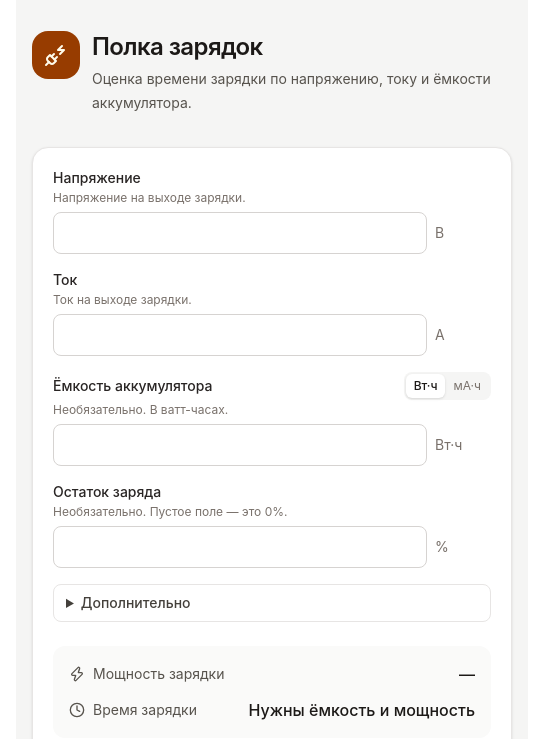
Test: home calculator › treats a blank efficiency as 85% and does not estimate an out-of-range value
Type "5" into the number field labelled "Напряжение".
click(240, 233); type("5")  # box 53,212 -> 427,254
Type "2" into the number field labelled "Ток".
click(240, 335); type("2")  # box 53,314 -> 427,356
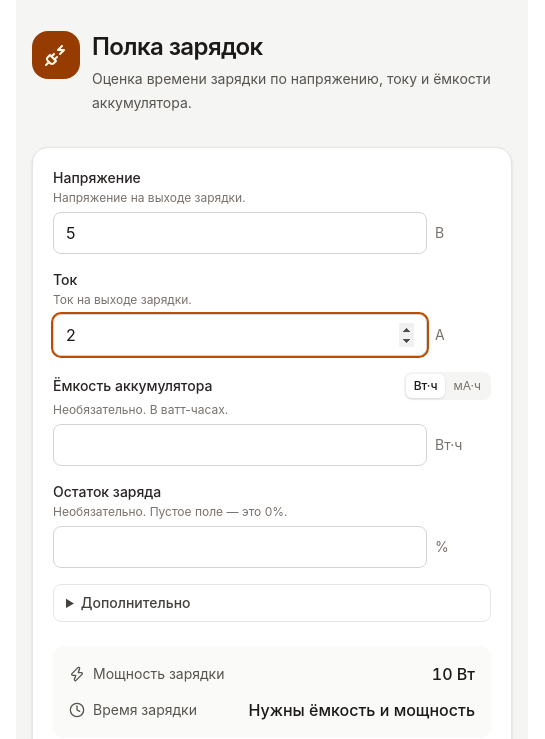
Type "10" into the number field labelled "Ёмкость аккумулятора".
click(240, 445); type("10")  # box 53,424 -> 427,466
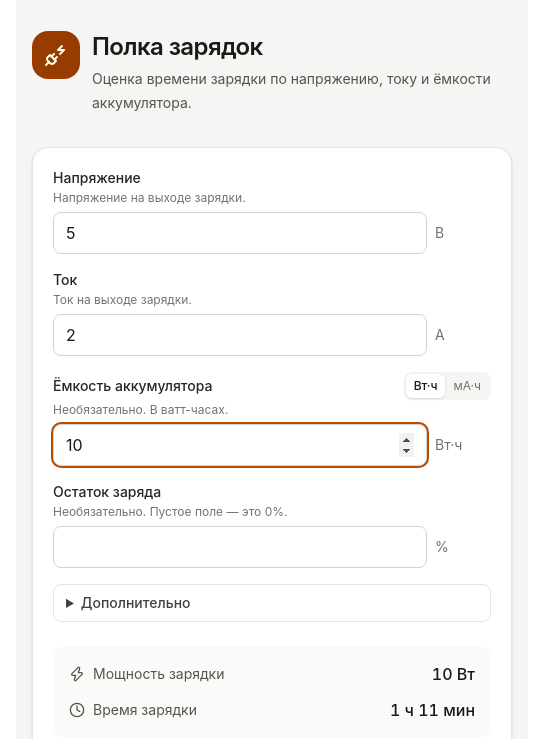
Click the heading "Дополнительно".
click(136, 602)  # box 81,594 -> 190,611
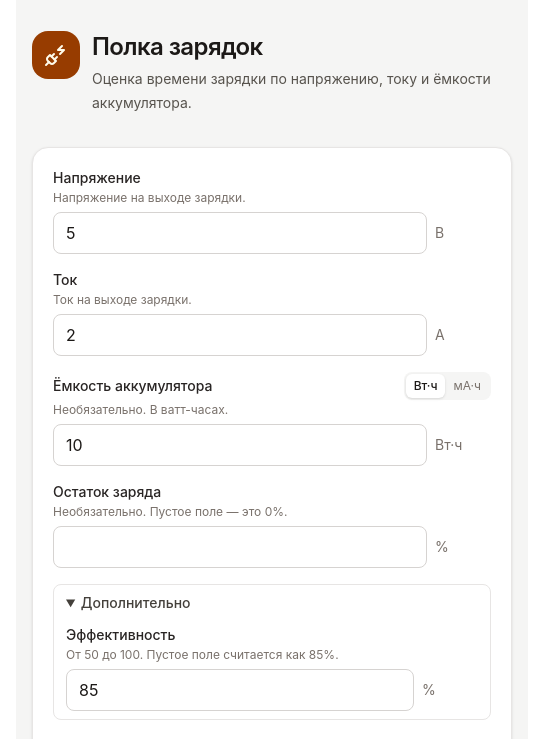
Clear the number field labelled "Эффективность" at (240, 690), box 66,669 -> 414,711
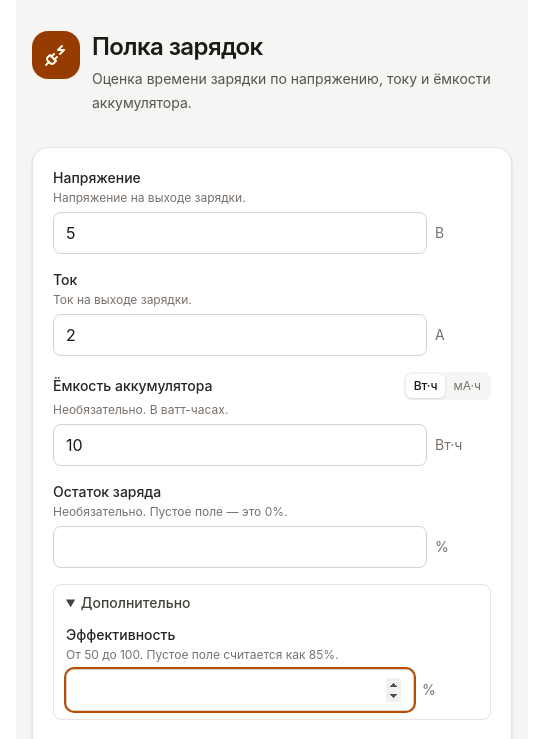
Expected: the text "Введите значение от 50 до 100." is not shown
Type "10" into the number field labelled "Эффективность".
click(240, 690); type("10")  # box 66,669 -> 414,711
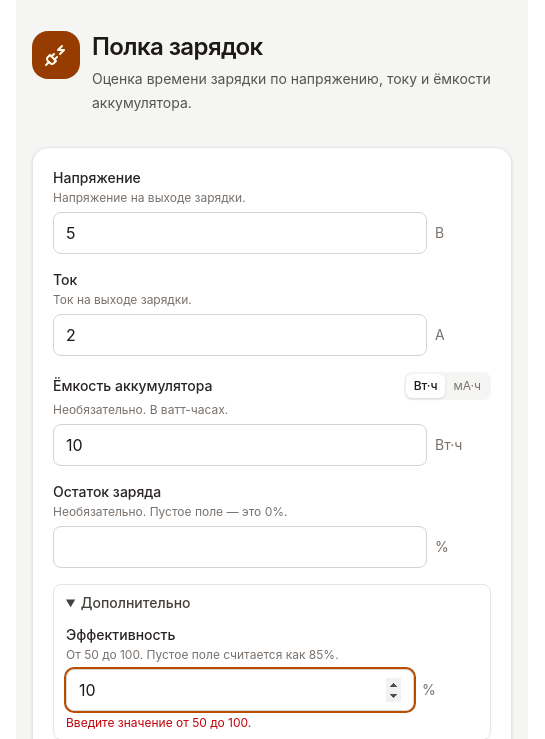
Expected: the text "1 ч 11 мин" is not shown
Expected: the text "Введите значение от 50 до 100." is shown, 66,715 -> 251,730
Replace the text in the number field labelled "Эффективность" with "200" at (240, 690), box 66,669 -> 414,711
Replace the text in the number field labelled "Эффективность" with "-1" at (240, 690), box 66,669 -> 414,711
(page scrolled)
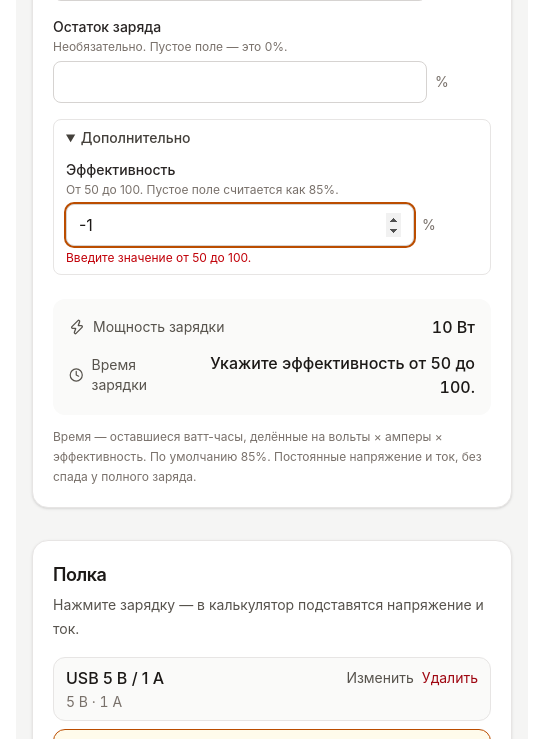
Expected: the text "Укажите эффективность от 50 до 100." is shown, 198,351 -> 475,399
